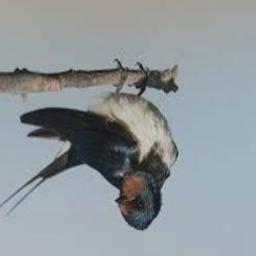Swallow: (0, 65, 177, 230)
